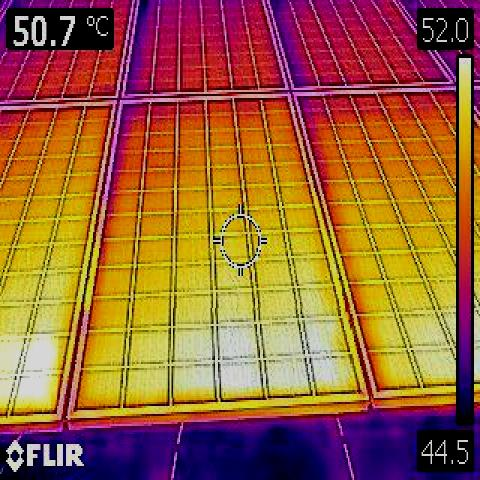fault: (172, 308, 352, 398), (0, 334, 58, 408)
